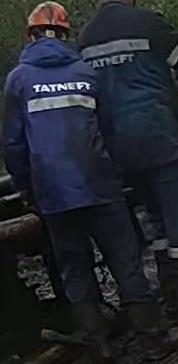helmet: (26, 0, 72, 36)
vest: (12, 40, 123, 215), (76, 3, 177, 174)
